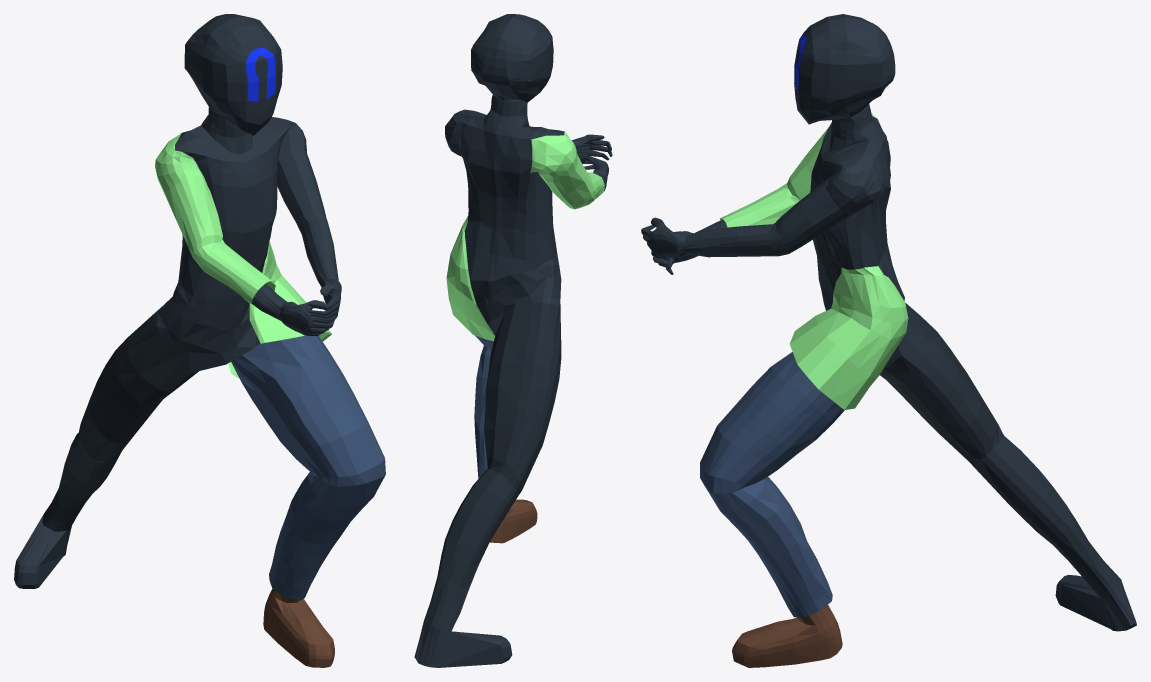
The model's file is Mar_WB_000019.obj.
3 renders of one model, left to right at view 1: azimuth 30°, elevation 25°; view 2: azimuth 150°, elevation 25°; view 3: azimuth 270°, elevation 25°, orthographic. The views are drawn at different scales.
Visible parts, largest first — view 1: Cube.000_Cube.001; view 2: Cube.000_Cube.001; view 3: Cube.000_Cube.001.
Boxes of the visible parts, left/top/right/bottom form: Cube.000_Cube.001: left=14, top=14, right=385, bottom=667; Cube.000_Cube.001: left=414, top=14, right=612, bottom=667; Cube.000_Cube.001: left=641, top=14, right=1136, bottom=667.
Bounding box in the file's own units: 1.15 × 3.51 × 2.49.
